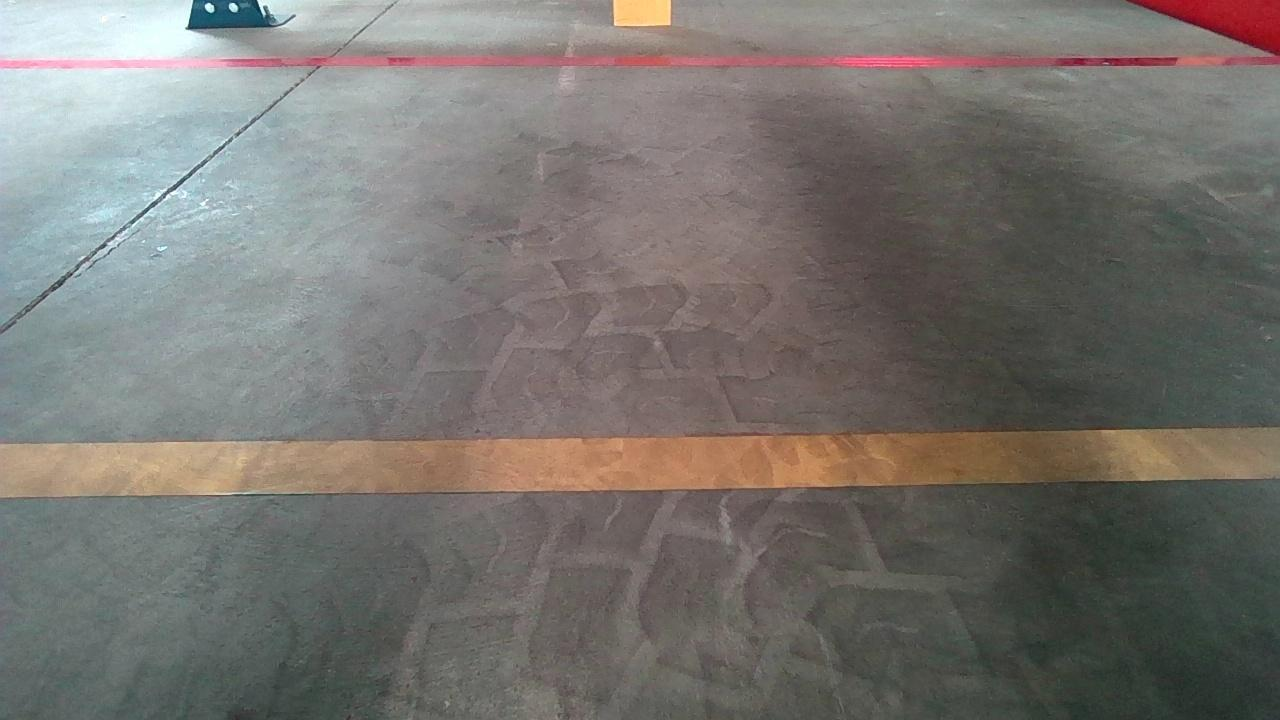orange_strip: (611, 0, 673, 27)
red_line: (0, 55, 1280, 68)
yellow_line: (0, 425, 1271, 499)
